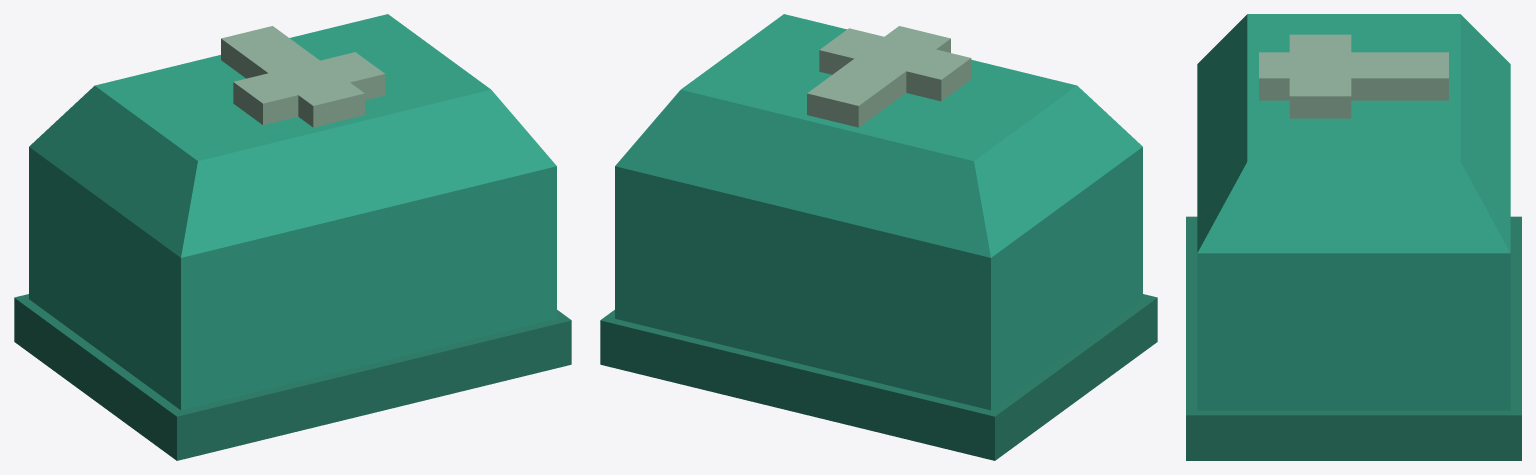
File: relicario.glb
3 renders of one model, left to right at view 1: azimuth 30°, elevation 25°; view 2: azimuth 150°, elevation 25°; view 3: azimuth 270°, elevation 25°, orthographic. The views are drawn at different scales.
Visible parts, largest first — view 1: caixa, tampa; view 2: caixa, tampa; view 3: tampa, caixa.
Part boxes in pixels (x1,y1,x2,y2): caixa: (14,147,571,460); tampa: (29,14,556,257); caixa: (600,147,1157,460); tampa: (615,14,1142,257); tampa: (1197,14,1510,253); caixa: (1186,216,1521,460).
Size of the model in its own units: 0.42 by 0.292 by 0.3.
